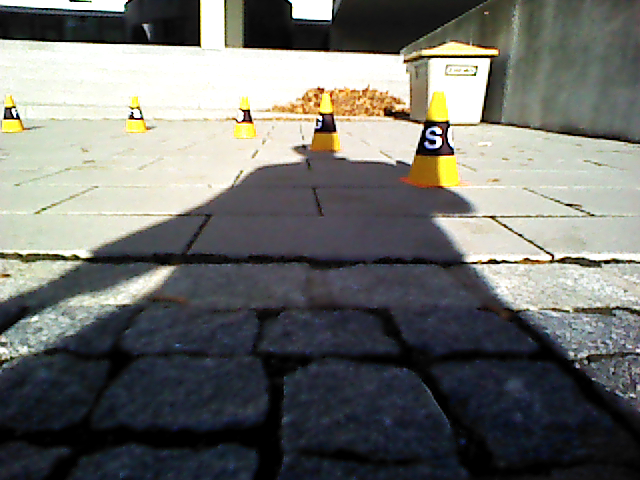yellowcone: (413, 94, 459, 184), (311, 94, 339, 149), (1, 95, 25, 134), (233, 96, 254, 138), (126, 96, 144, 133)
